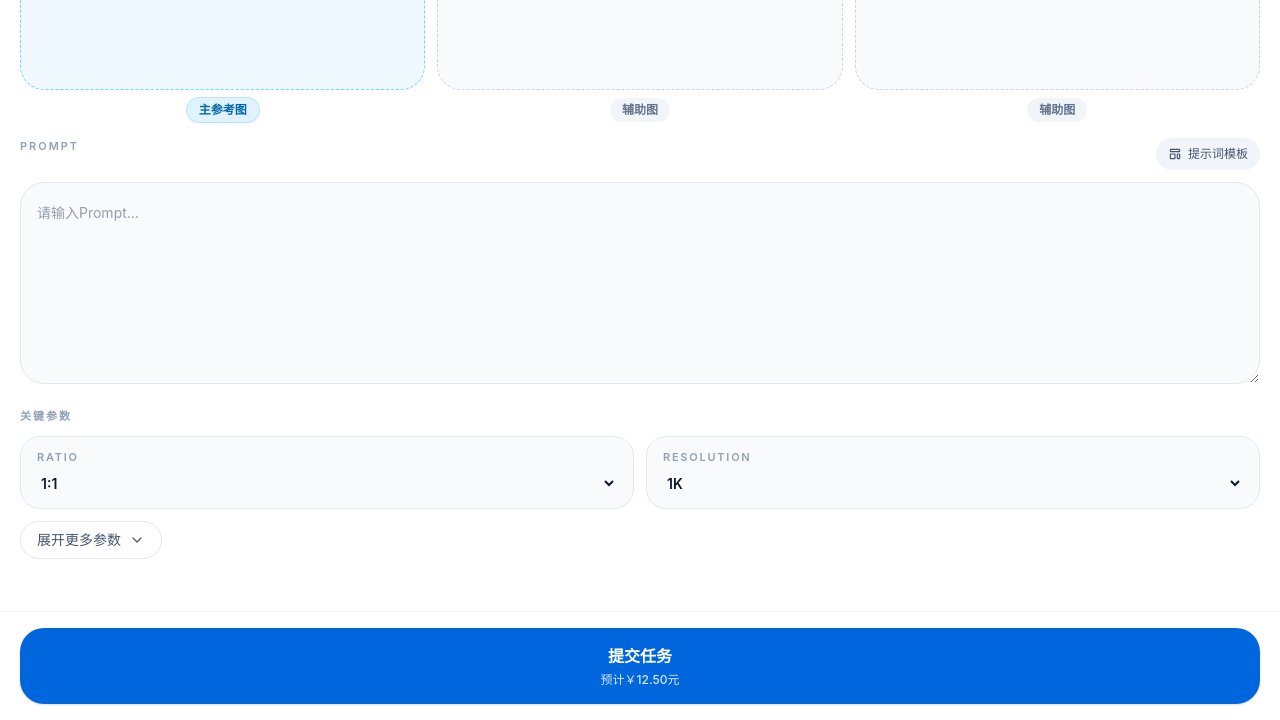
SubmitForm › keeps low-frequency parameters behind a more options toggle
(page scrolled)
Expected: the text "Ratio" is shown, [37,450,79,464]
Expected: the text "Resolution" is shown, [663,450,752,464]
Step 1. Click the button with aria-label "toggle-advanced-params" → (91, 540), box [20,521,162,559]
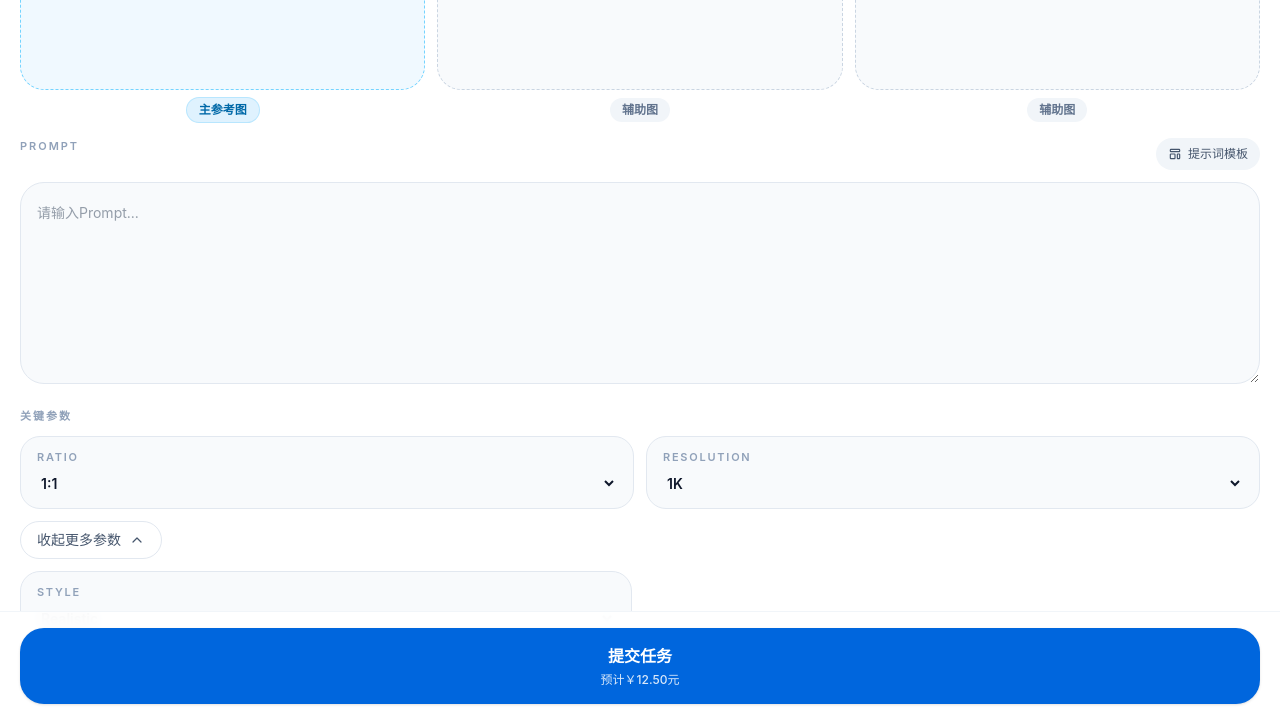
Result: the text "Style" is shown at [37,585,81,599]
